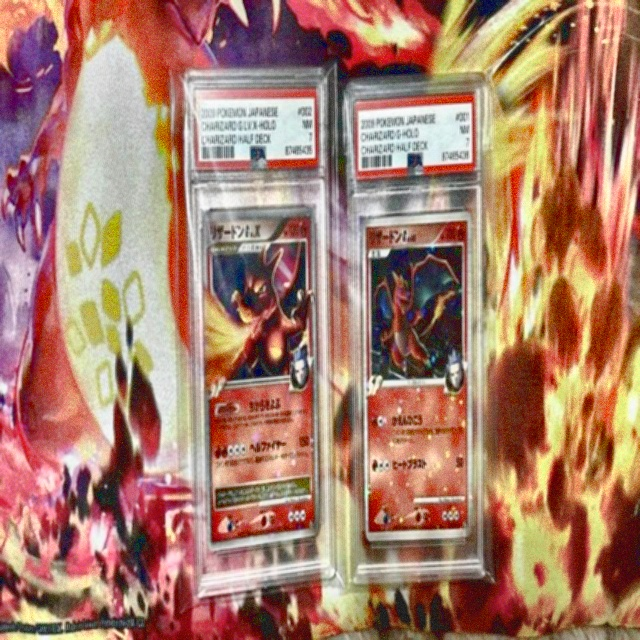card: (201, 206, 320, 552), (362, 210, 473, 543)
